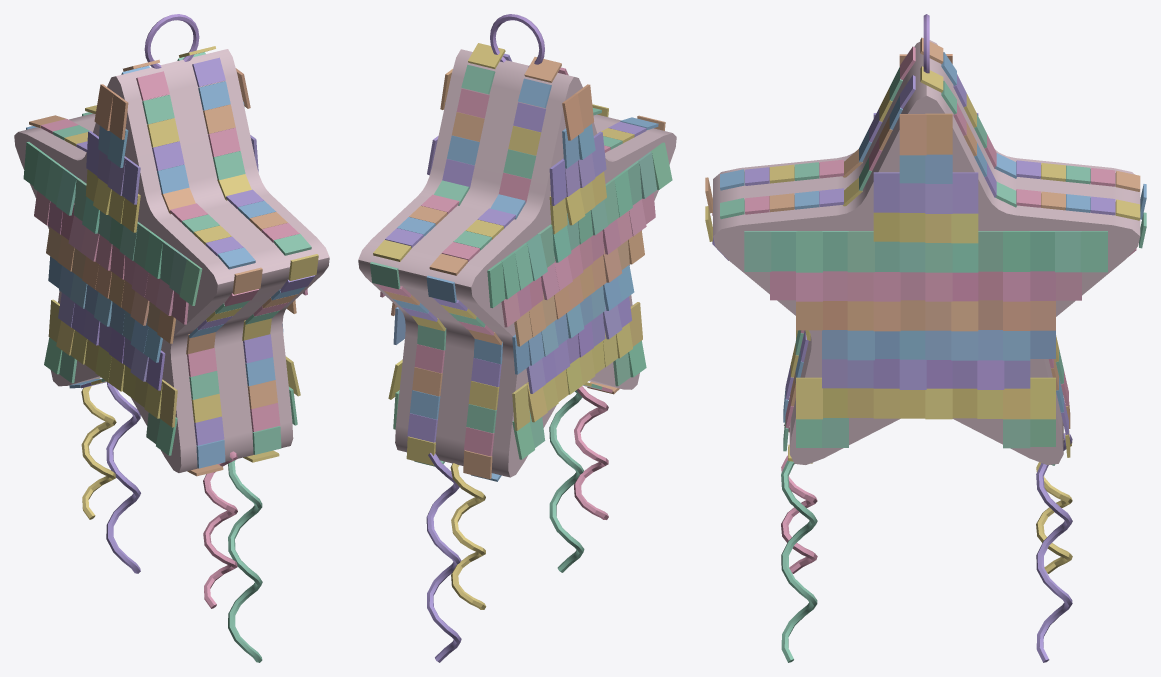
File: W4_PinataStar_lod0.fbx
3 views of the same model, side by side, from view 1: azimuth 30°, elevation 25°; view 2: azimuth 150°, elevation 25°; view 3: azimuth 270°, elevation 25° (orthographic). The views are drawn at different scales.
Visible parts, largest first — view 1: W4_PinataStar.001; view 2: W4_PinataStar.001; view 3: W4_PinataStar.001.
Boxes of the visible parts, x1=… form: W4_PinataStar.001: x1=14, y1=14, x2=329, y2=662; W4_PinataStar.001: x1=358, y1=14, x2=676, y2=662; W4_PinataStar.001: x1=705, y1=14, x2=1146, y2=662.
Bounding box in the file's own units: 0.131 × 0.5681 × 0.3581.
